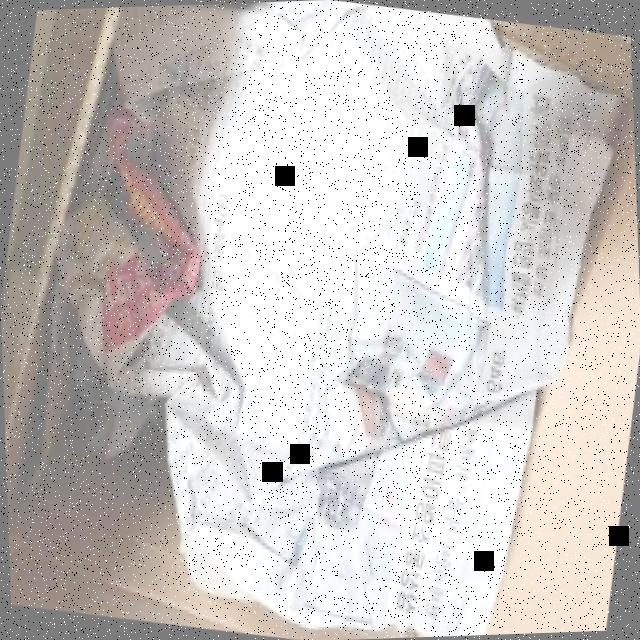reuseable_paper: (165, 45, 578, 619)
